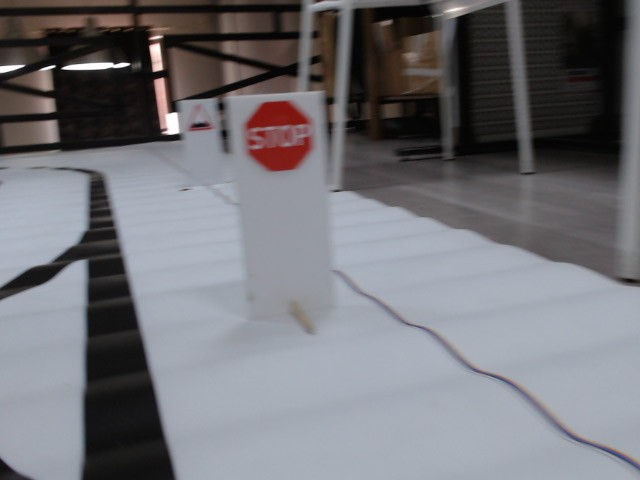Nerov: (186, 103, 213, 134)
Stop: (244, 101, 317, 171)
